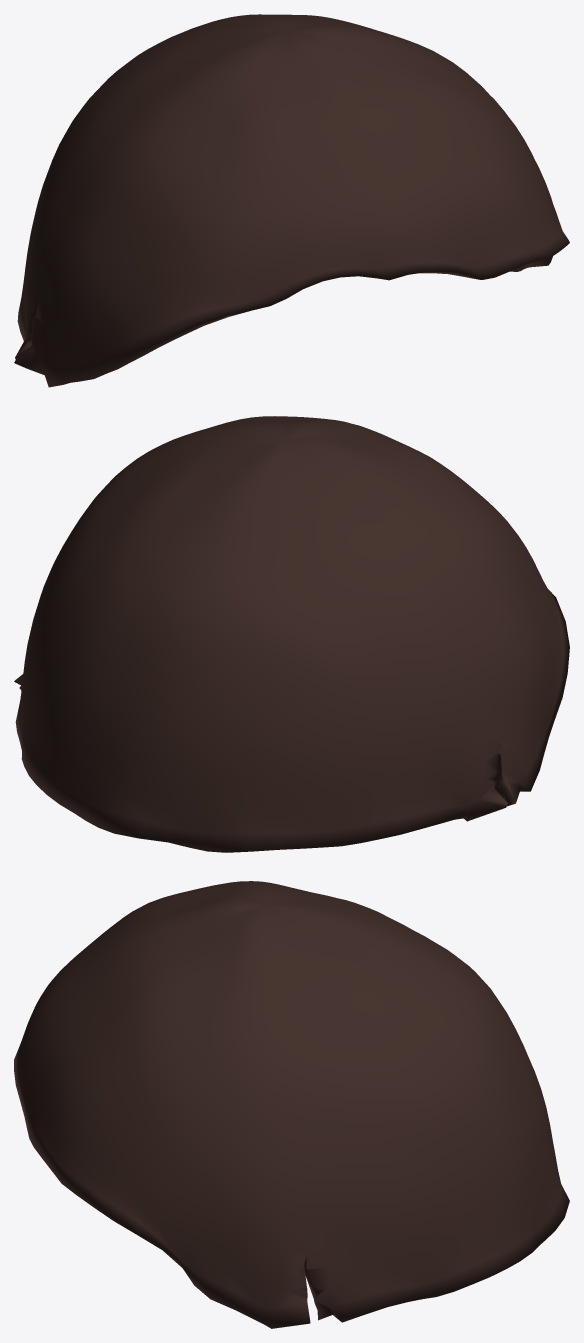
The model's file is 3HT-feminino.glb.
3 renders of one model, top to bottom at view 1: azimuth 30°, elevation 25°; view 2: azimuth 150°, elevation 25°; view 3: azimuth 270°, elevation 25°, orthographic. The views are drawn at different scales.
Visible parts, largest first — view 1: sculpted-scalp; view 2: sculpted-scalp; view 3: sculpted-scalp.
Part boxes in pixels (box(x1,y1,x2,y2)): sculpted-scalp: box(14, 14, 569, 387); sculpted-scalp: box(14, 416, 569, 852); sculpted-scalp: box(14, 881, 569, 1328).
Size of the model in its own units: 0.0485 by 0.0281 by 0.0454.
